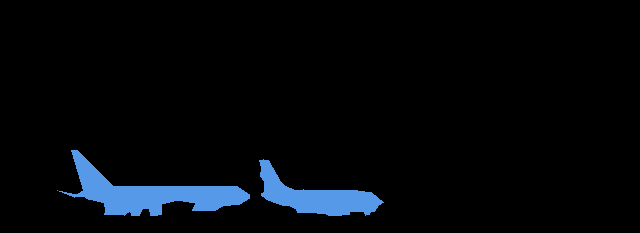Airplane: (57, 150, 250, 216), (259, 159, 383, 216)
